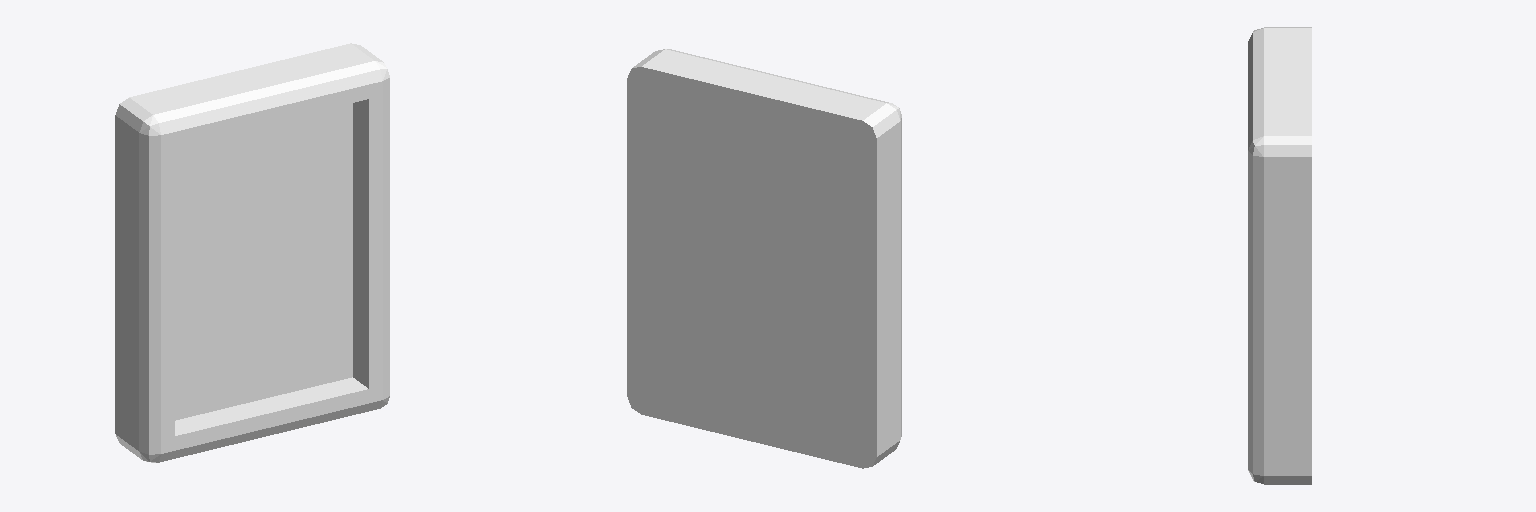
File: wall_sign_small.obj
3 renders of one model, left to right at view 1: azimuth 30°, elevation 25°; view 2: azimuth 150°, elevation 25°; view 3: azimuth 270°, elevation 25°, orthographic.
Visible parts, largest first — view 1: wall_sign_small; view 2: wall_sign_small; view 3: wall_sign_small.
Part boxes in pixels (x1,y1,x2,y2): wall_sign_small: (115,43,389,462); wall_sign_small: (627,49,901,468); wall_sign_small: (1248,27,1311,484).
Bounding box in the file's own units: 0.9 × 1.2 × 0.2.